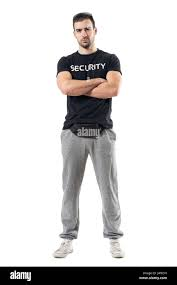height_frame: (54, 11, 127, 259)
hip_frame: (60, 128, 115, 133)
shoulder_frame: (59, 57, 117, 62)
waist_frame: (66, 106, 111, 112)
